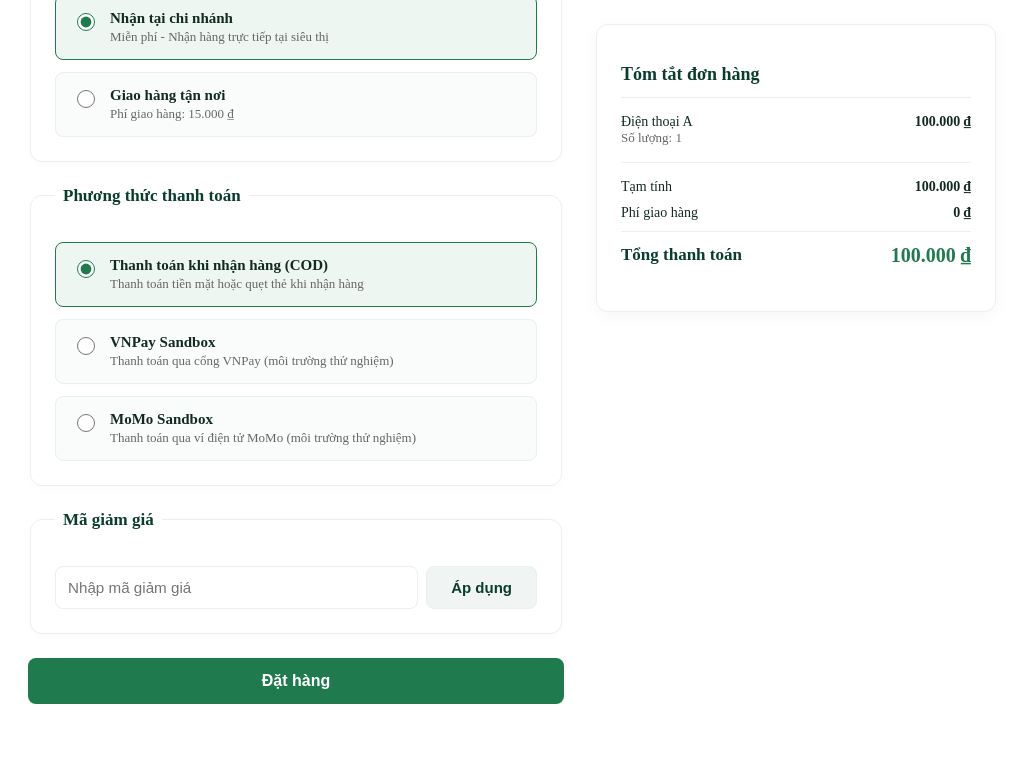
Test: CheckoutPage › applies a valid coupon and shows the discount in the summary
(page scrolled)
Type "sale10" into the field with placeholder "Nhập mã giảm giá" at (237, 587), box 55,566 -> 418,609
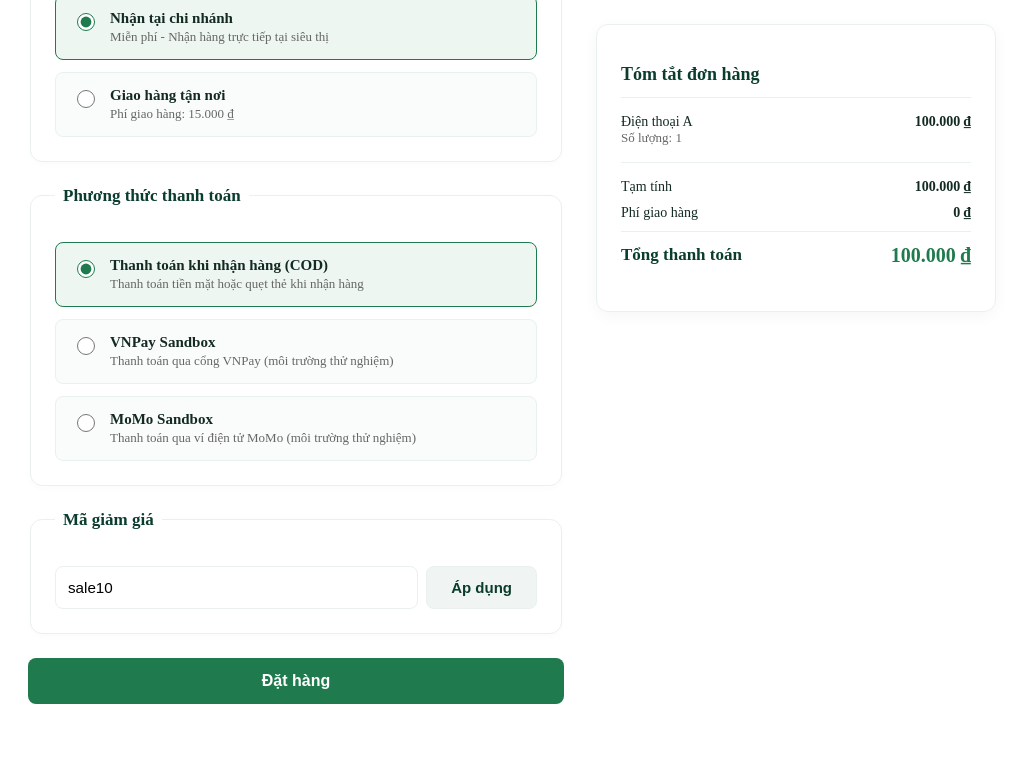
Click the button "Áp dụng" at (482, 587), box 426,566 -> 537,609
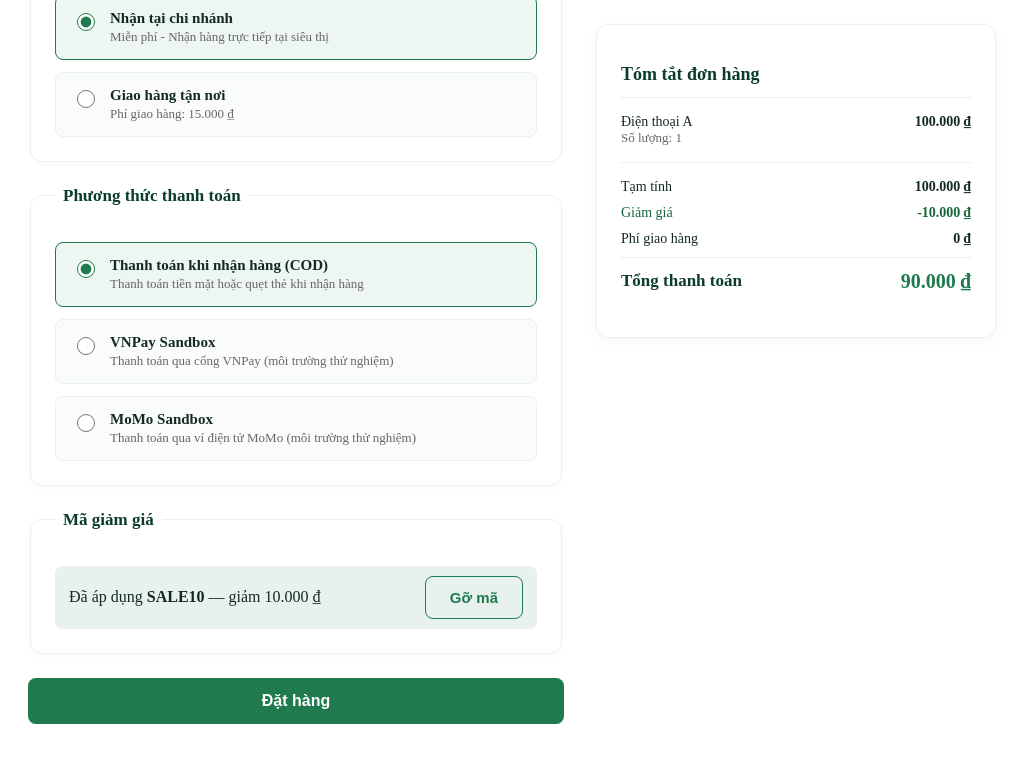
Now the text "SALE10" is shown, box 147,588 -> 205,605
Now the text "Giảm giá" is shown, box 621,205 -> 673,221
Now the text "-10.000 ₫" is shown, box 917,205 -> 971,221
